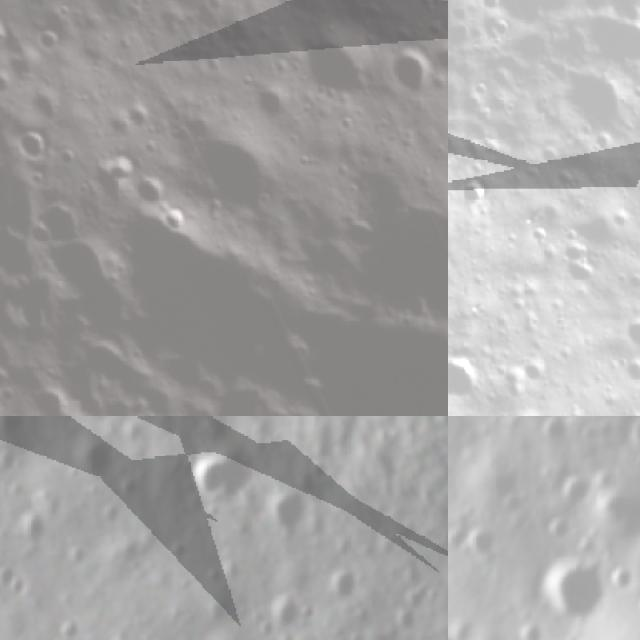crater: (183, 111, 300, 236), (276, 8, 392, 128), (542, 48, 640, 153), (467, 0, 609, 45), (543, 220, 617, 302), (378, 36, 448, 112), (541, 554, 617, 620), (188, 443, 252, 511), (448, 336, 496, 416), (448, 116, 478, 233), (9, 120, 62, 176), (70, 428, 119, 484), (115, 88, 168, 139), (266, 486, 312, 543), (151, 197, 203, 246), (124, 170, 176, 219), (26, 17, 74, 65), (22, 84, 70, 131), (557, 467, 610, 509), (456, 171, 499, 219), (261, 590, 308, 632), (465, 523, 510, 566), (17, 505, 54, 557), (616, 94, 640, 170), (326, 565, 366, 607), (612, 304, 640, 358), (605, 560, 640, 600), (546, 509, 582, 546), (0, 4, 20, 67), (0, 59, 26, 107), (0, 559, 27, 600), (301, 455, 334, 488), (505, 487, 536, 522), (540, 416, 577, 445), (503, 399, 557, 416), (51, 616, 88, 640), (513, 616, 550, 640), (626, 254, 640, 314), (0, 416, 32, 442), (625, 416, 640, 459), (360, 628, 400, 640), (100, 629, 142, 640)
